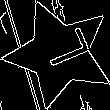L_SW: (29, 29, 89, 77)
